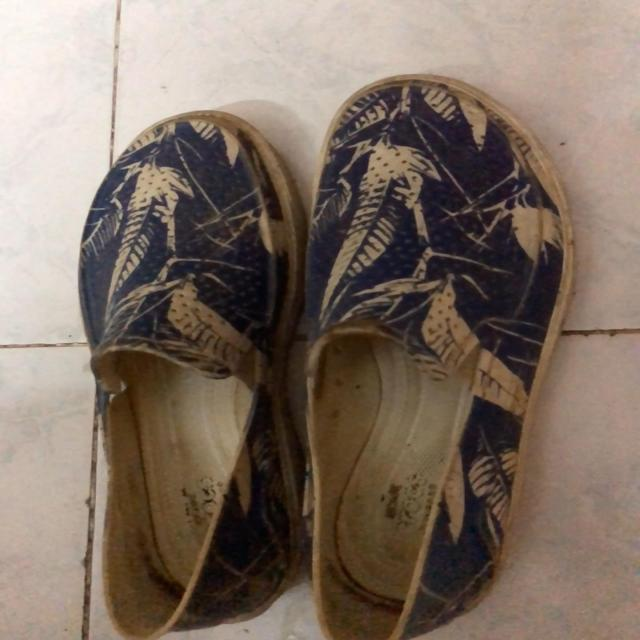shoe: (300, 75, 576, 640), (78, 110, 307, 640)
